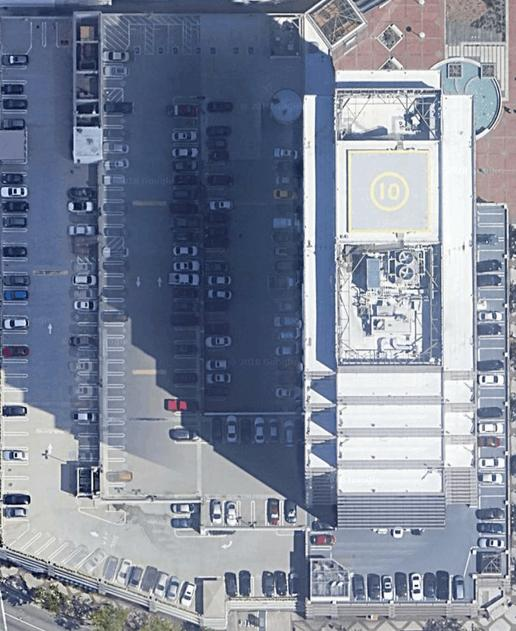parkingspot: (476, 211, 509, 550), (0, 162, 31, 522), (170, 102, 202, 445), (202, 98, 230, 413), (274, 123, 304, 413), (103, 247, 128, 497), (99, 555, 200, 612), (73, 263, 100, 463), (5, 527, 111, 577), (348, 572, 467, 605), (101, 101, 128, 239), (203, 499, 298, 529), (191, 23, 271, 56), (210, 417, 298, 446), (224, 570, 305, 601), (0, 53, 29, 131), (70, 185, 99, 257), (101, 49, 131, 90), (309, 518, 337, 561), (152, 23, 186, 57), (29, 19, 60, 50), (170, 503, 201, 531), (127, 23, 147, 57)
